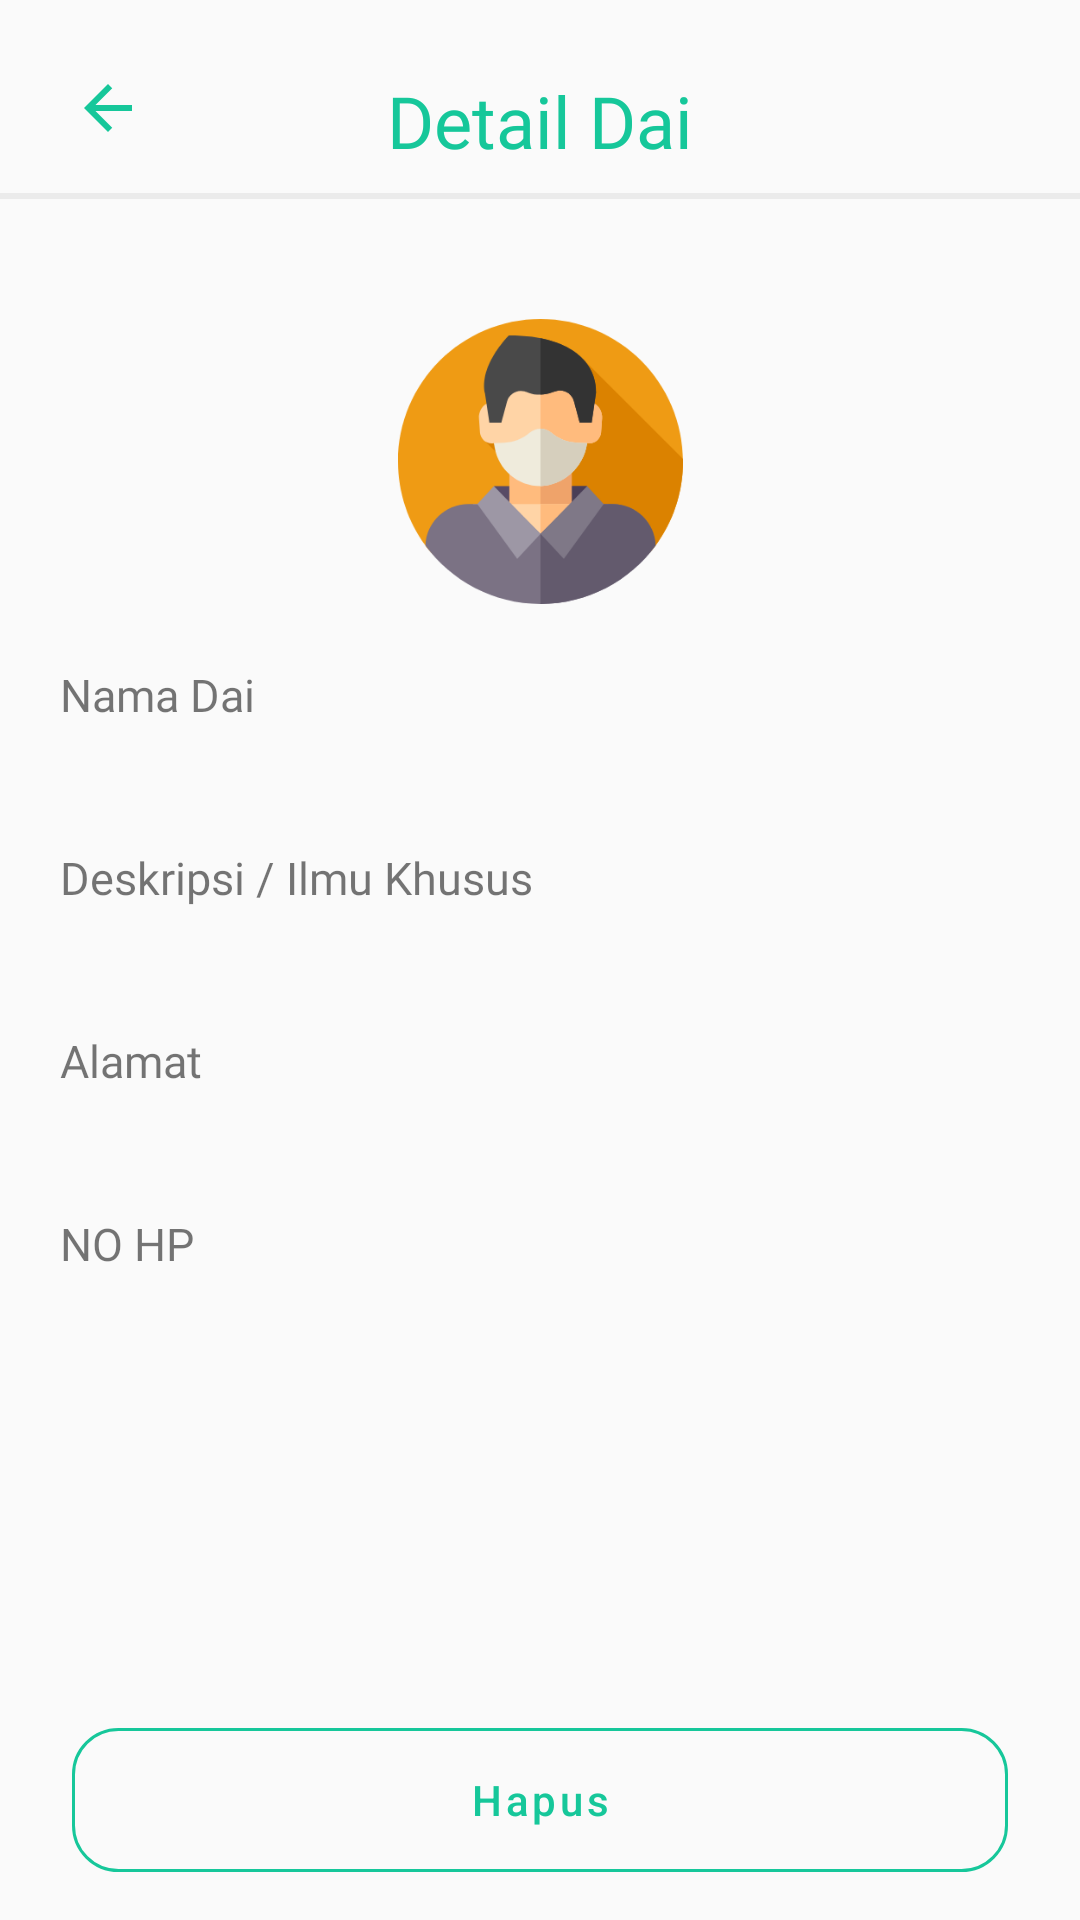

Where to tap for icons on this 1080*1920 app screen, as (x=x, y=y):
arrow: (x=108, y=108)
foto: (x=540, y=461)
